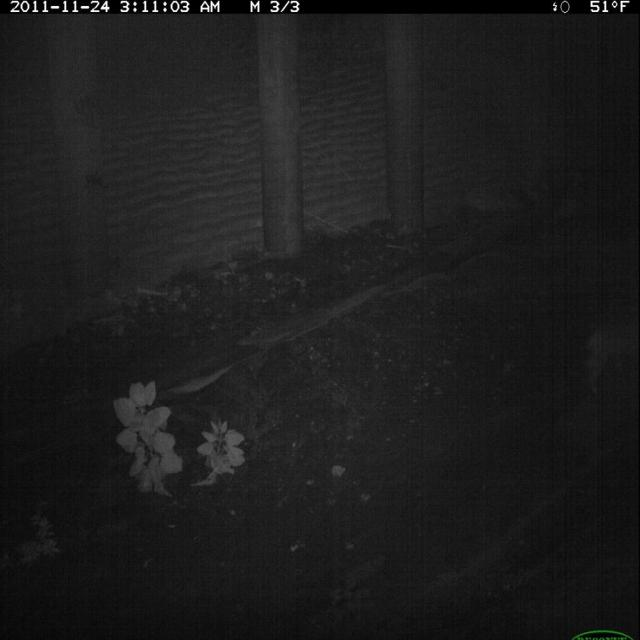bobcat: (578, 316, 639, 406)
